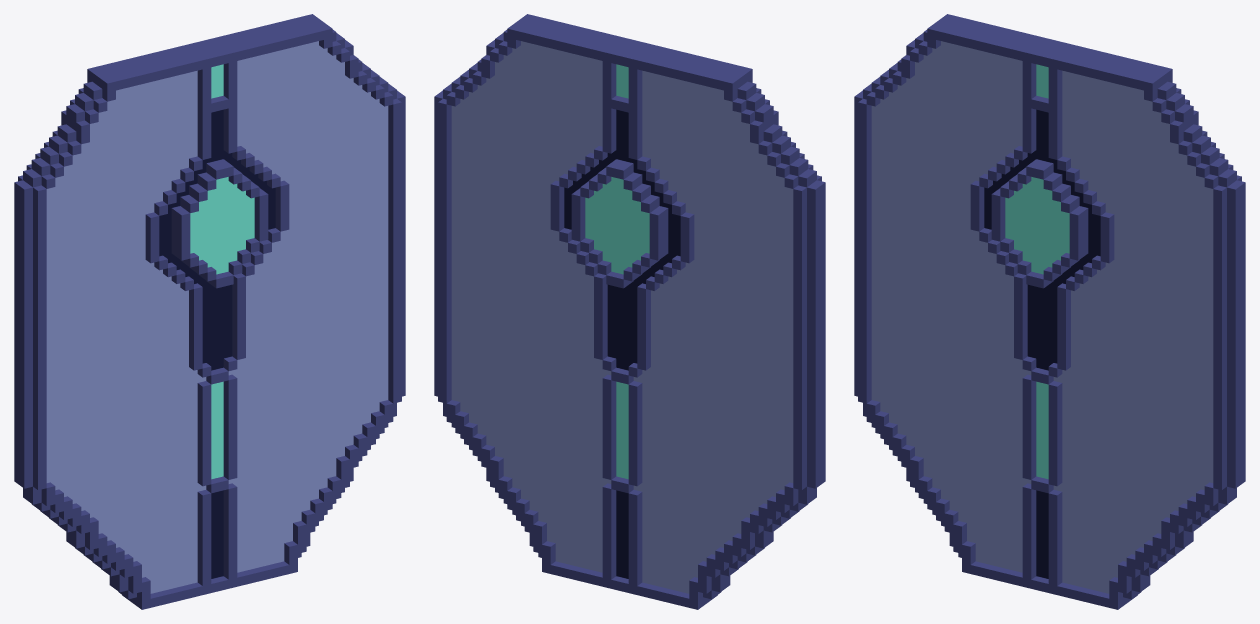
Rendered from door int.obj.
The picture shows the model from 3 angles, left to right: view 1: azimuth 30°, elevation 25°; view 2: azimuth 150°, elevation 25°; view 3: azimuth 330°, elevation 25°; orthographic projection.
Size of the model in its own units: 4.4 by 5.9 by 0.6.
1 material, 1 textured.
